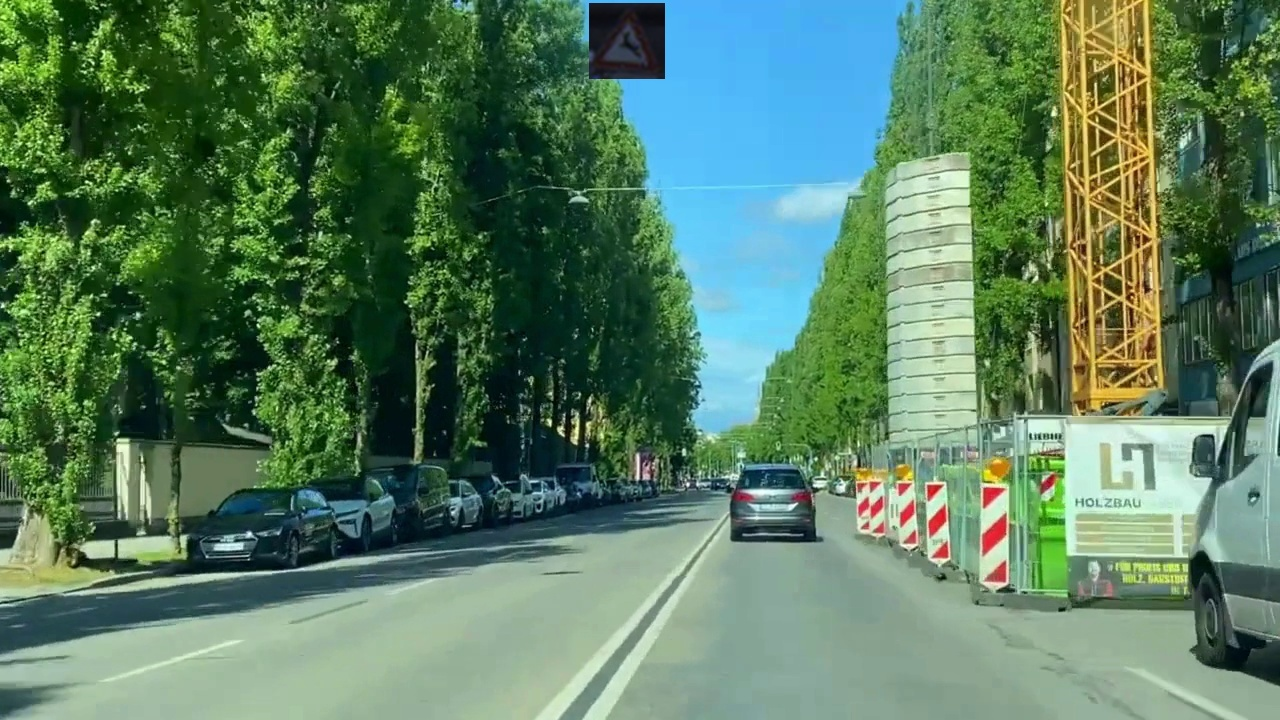Wild animals: (589, 3, 665, 79)
